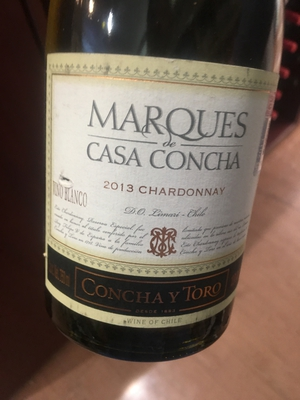marques de casa concha chardonnay: (25, 9, 290, 363)
